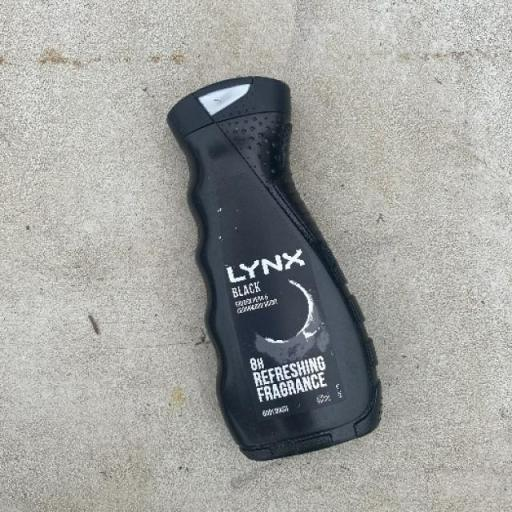plastic: (165, 74, 382, 460)
